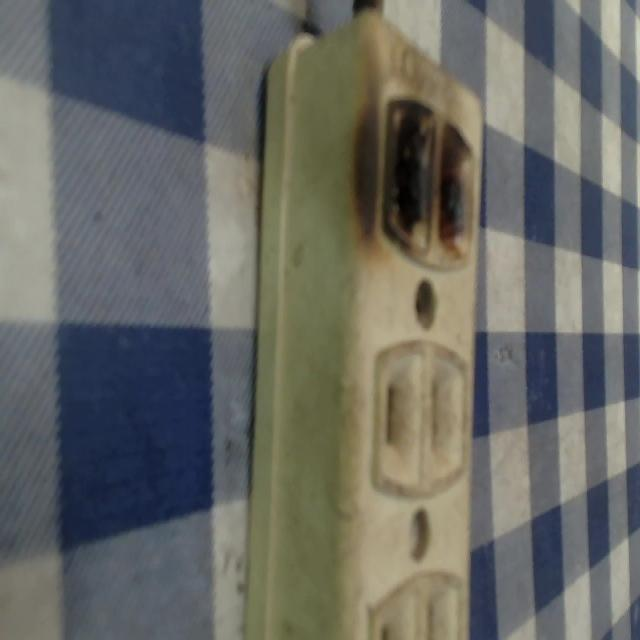-: (360, 88, 478, 272)
